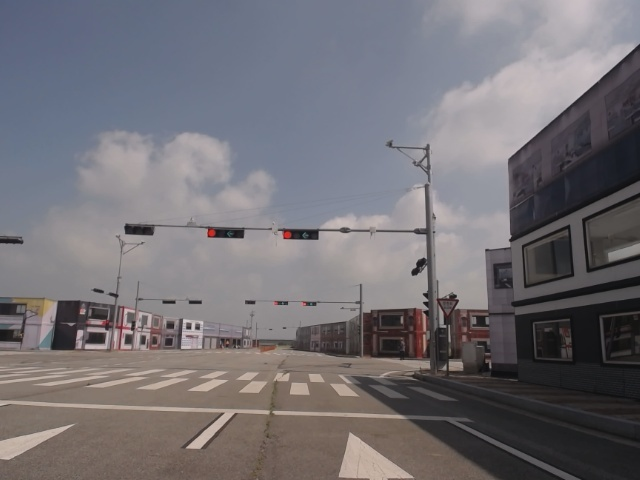left_green_4: (207, 228, 245, 239), (283, 229, 319, 240)
